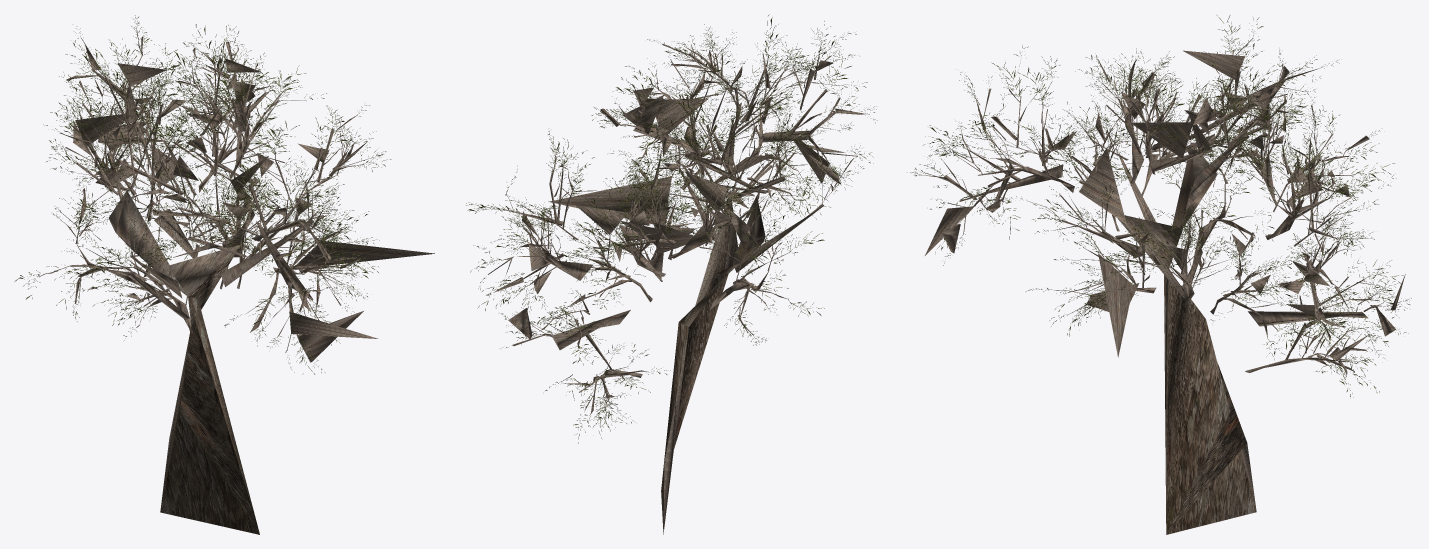
The model's file is small_tree.glb.
3 renders of one model, left to right at view 1: azimuth 30°, elevation 25°; view 2: azimuth 150°, elevation 25°; view 3: azimuth 270°, elevation 25°, orthographic. The views are drawn at different scales.
Parts seen in each view (by area): view 1: tree_small_02_LOD0; view 2: tree_small_02_LOD0; view 3: tree_small_02_LOD0.
Part boxes in pixels (x1,y1,x2,y2): tree_small_02_LOD0: (15,15,434,534); tree_small_02_LOD0: (466,14,877,534); tree_small_02_LOD0: (910,15,1411,534).
Bounding box in the file's own units: 3.22 × 4.24 × 4.27.
Materials: 3 (3 with a texture image).
